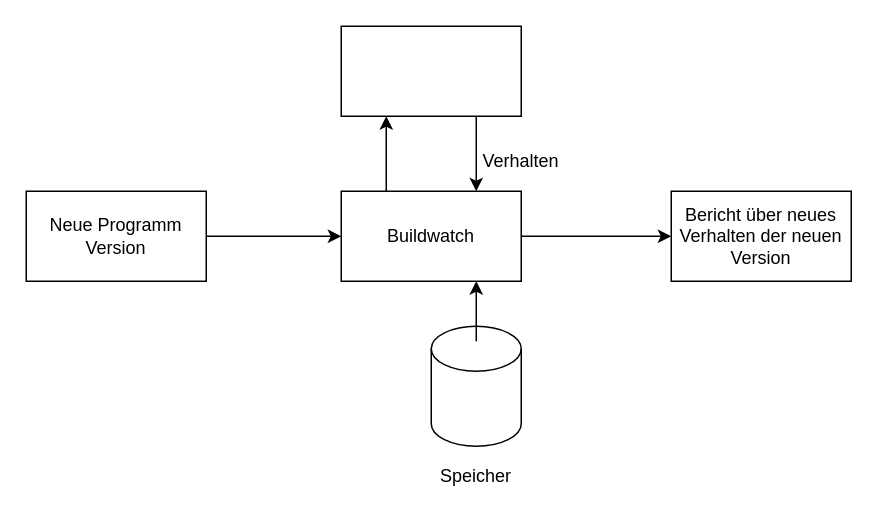
The diagram is 878 pixels wide and 518 high, and some of its shapes have lost their labels. Each missing label, with the centre of its shape:
altes Verhalten: point 475,385
Ausführen in Sandbox: point 430,70
